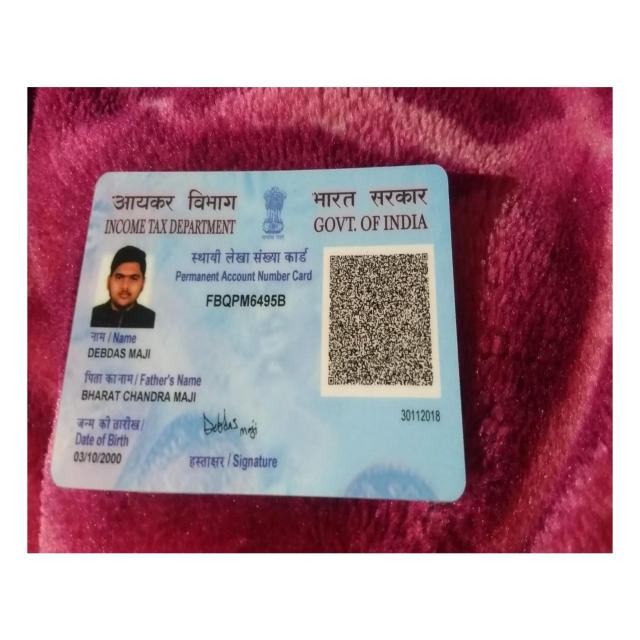pan_card: (52, 165, 462, 488)
